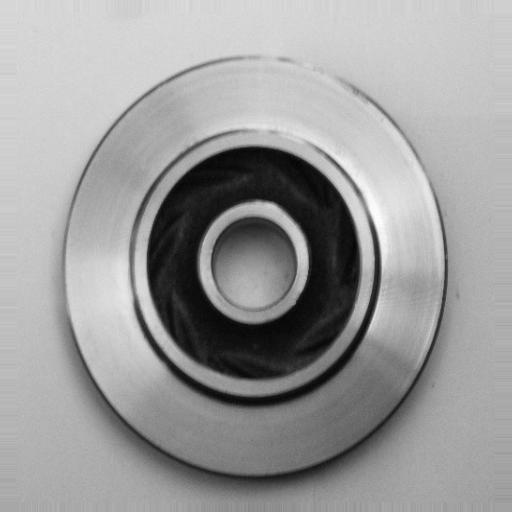scratch: (258, 36, 379, 107), (234, 112, 332, 162)
unpolished_casting: (62, 51, 450, 486)
